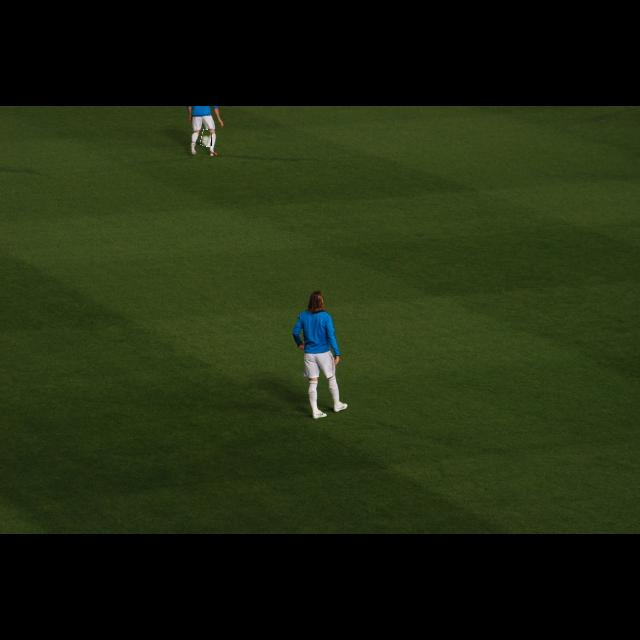Football: (202, 130, 212, 146)
